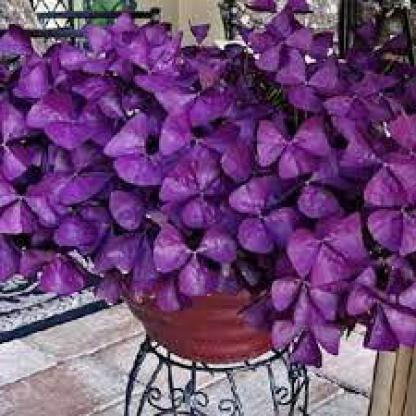Kupu-Kupu: (273, 227, 349, 354), (158, 109, 230, 192), (40, 123, 108, 201), (253, 114, 330, 180), (269, 48, 349, 107)
